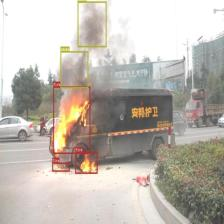fire: (53, 86, 90, 154), (75, 152, 98, 174), (52, 162, 69, 172)
smoke: (78, 1, 106, 47), (60, 51, 88, 88)
